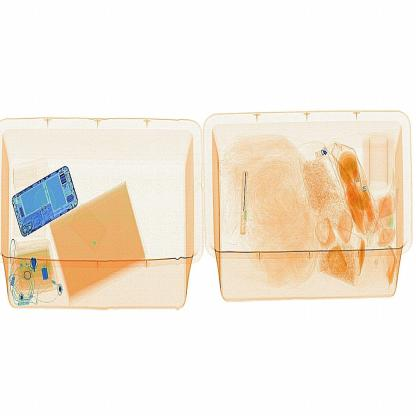pliers: (233, 159, 258, 235)
